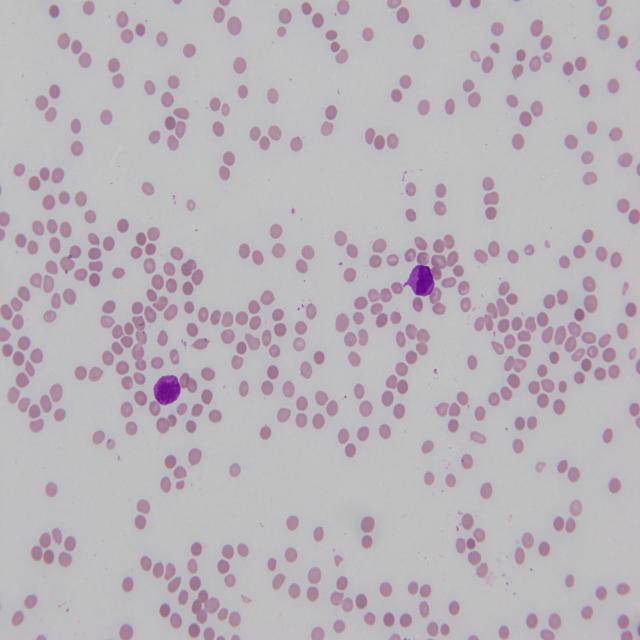cell: (404, 265, 434, 296), (154, 375, 181, 405)
